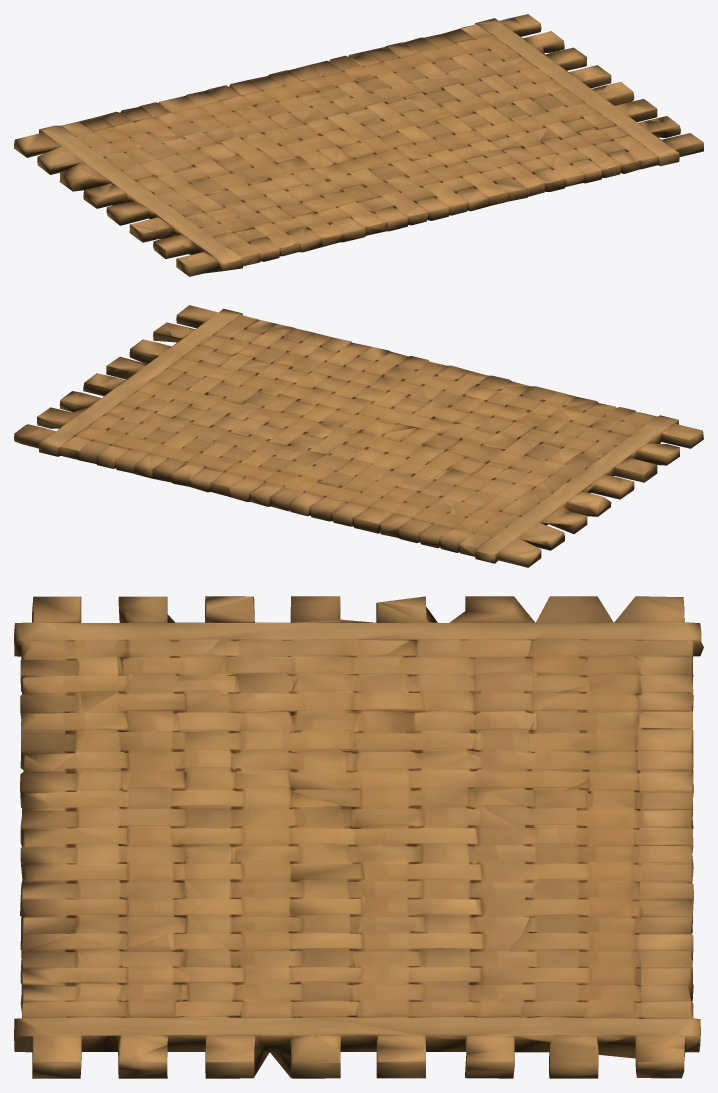
The model's file is woven-rug.glb.
3 views of the same model, one above another, from view 1: azimuth 30°, elevation 25°; view 2: azimuth 150°, elevation 25°; view 3: azimuth 270°, elevation 25° (orthographic). The views are drawn at different scales.
Parts seen in each view (by area): view 1: woven-rug; view 2: woven-rug; view 3: woven-rug.
Part boxes in pixels (left/top/right/bottom): woven-rug: left=14, top=14, right=703, bottom=276; woven-rug: left=14, top=305, right=703, bottom=567; woven-rug: left=14, top=596, right=703, bottom=1078.
Size of the model in its own units: 1.2 by 0.025 by 0.75.
Materials: 1 (1 with a texture image).
